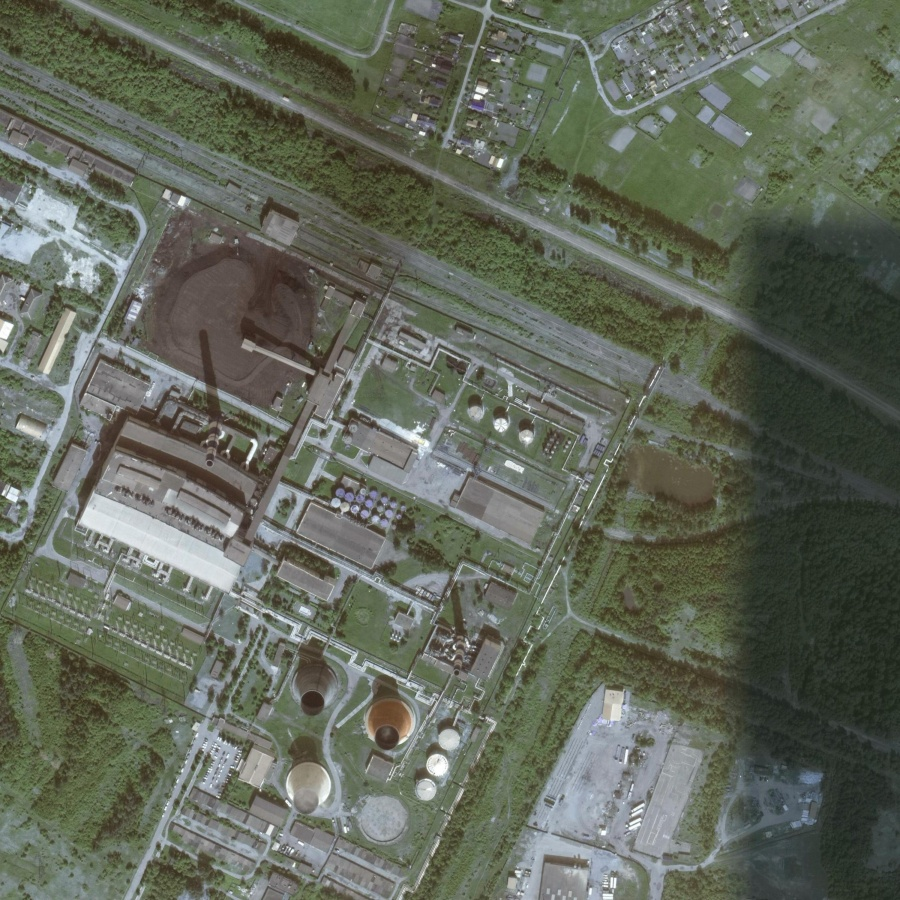PowerPlant: (71, 227, 536, 829)
